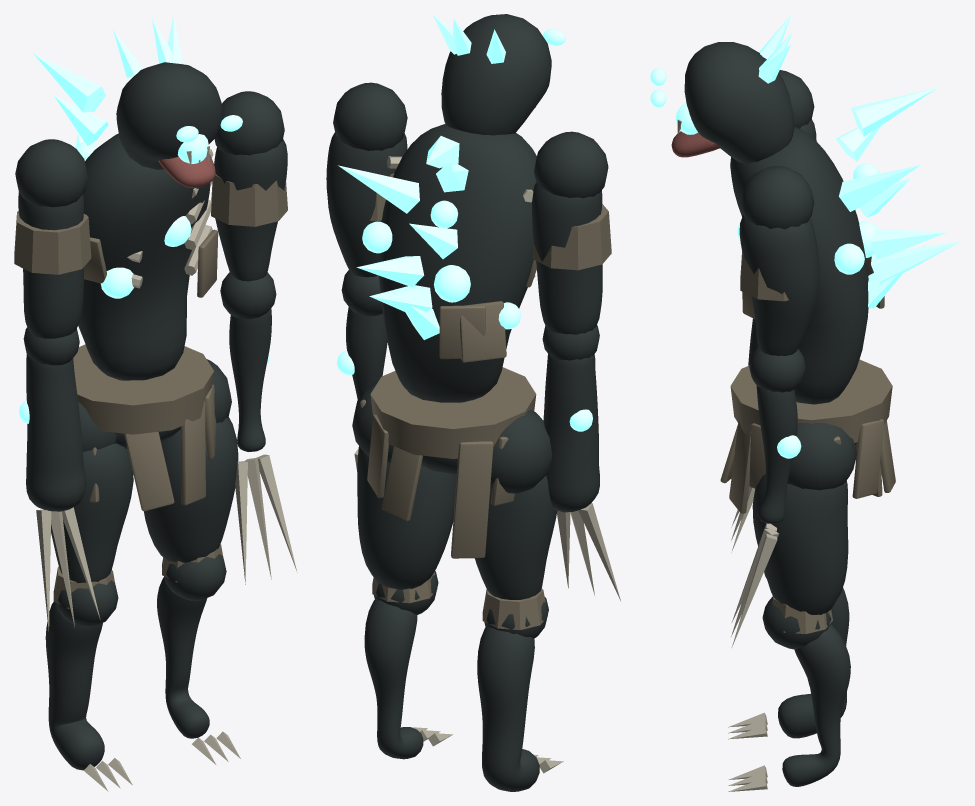
Rendered from runner.glb.
The picture shows the model from 3 angles, left to right: view 1: azimuth 30°, elevation 25°; view 2: azimuth 150°, elevation 25°; view 3: azimuth 270°, elevation 25°; orthographic projection. The views are drawn at different scales.
Visible parts, largest first — view 1: torso_mesh, hips_mesh, arm_r_mesh, elbow_r_mesh, head_mesh, arm_l_mesh, knee_r_mesh, elbow_l_mesh, leg_l_mesh, knee_l_mesh, leg_r_mesh; view 2: torso_mesh, hips_mesh, arm_r_mesh, head_mesh, elbow_r_mesh, knee_r_mesh, leg_r_mesh, arm_l_mesh, leg_l_mesh, knee_l_mesh, elbow_l_mesh; view 3: torso_mesh, leg_l_mesh, head_mesh, arm_l_mesh, hips_mesh, knee_l_mesh, elbow_l_mesh, knee_r_mesh, arm_r_mesh, elbow_r_mesh.
Part boxes in pixels (box(x1,y1,x2,y2)): torso_mesh: box(33, 53, 218, 380); hips_mesh: box(73, 344, 216, 511); arm_r_mesh: box(14, 139, 91, 338); elbow_r_mesh: box(19, 327, 100, 632); head_mesh: box(113, 14, 242, 187); arm_l_mesh: box(211, 91, 287, 281); knee_r_mesh: box(45, 566, 132, 791); elbow_l_mesh: box(220, 272, 297, 584); leg_l_mesh: box(144, 359, 238, 562); knee_l_mesh: box(157, 544, 240, 764); leg_r_mesh: box(51, 402, 133, 583); torso_mesh: box(338, 124, 536, 402); hips_mesh: box(360, 367, 536, 558); arm_r_mesh: box(532, 131, 611, 334); head_mesh: box(432, 14, 565, 135); elbow_r_mesh: box(542, 325, 620, 600); knee_r_mesh: box(477, 588, 563, 791); leg_r_mesh: box(475, 410, 557, 599); arm_l_mesh: box(326, 82, 407, 277); leg_l_mesh: box(352, 382, 456, 589); knee_l_mesh: box(364, 571, 452, 759); elbow_l_mesh: box(337, 270, 387, 471); torso_mesh: box(730, 87, 959, 404); leg_l_mesh: box(752, 423, 856, 614); head_mesh: box(650, 14, 794, 163); arm_l_mesh: box(739, 166, 819, 355); hips_mesh: box(720, 359, 895, 513); knee_l_mesh: box(728, 596, 850, 791); elbow_l_mesh: box(731, 346, 805, 647); knee_r_mesh: box(728, 571, 849, 739); arm_r_mesh: box(778, 70, 816, 140); elbow_r_mesh: box(731, 318, 758, 552).
Size of the model in its own units: 0.5409 by 1.43 by 0.5473.
